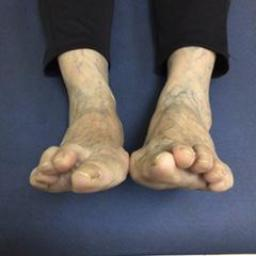Front View -Both Feet-: (22, 58, 240, 212)
